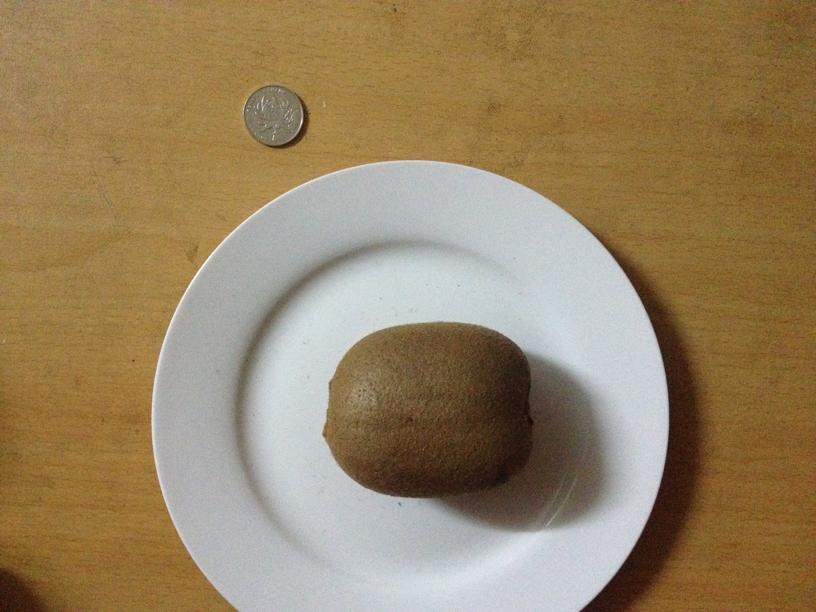coin: (243, 86, 305, 145)
qiwi: (325, 330, 529, 496)
